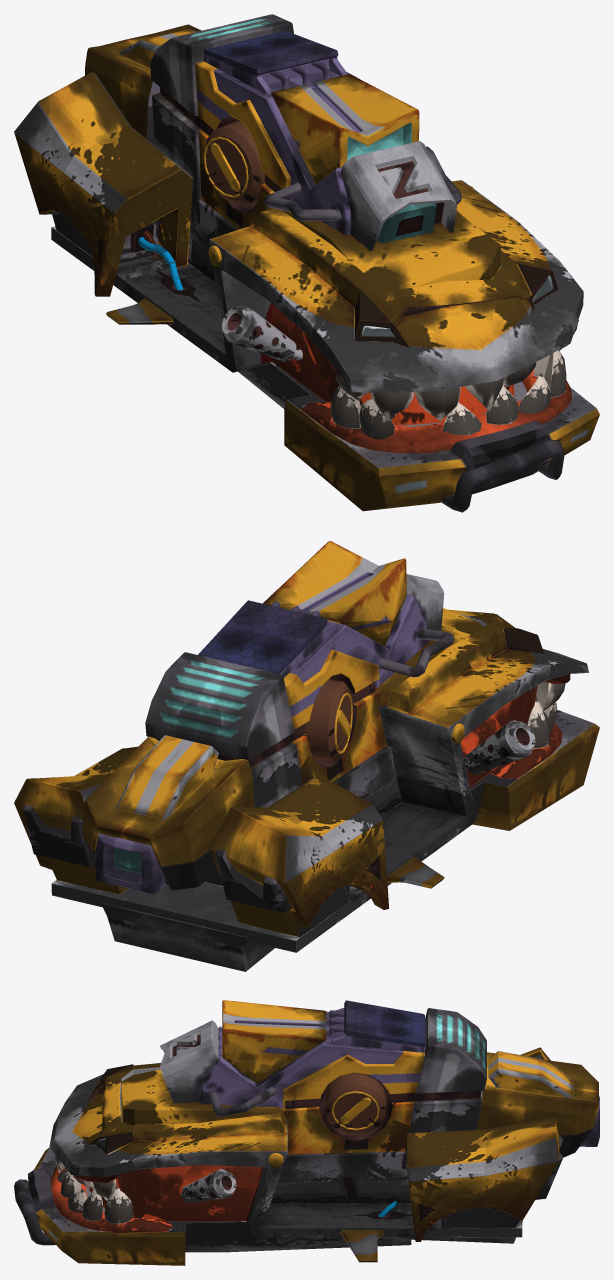
Rendered from Chariot03_cheshen_sunhuai.FBX.
3 views of the same model, one above another, from view 1: azimuth 30°, elevation 25°; view 2: azimuth 150°, elevation 25°; view 3: azimuth 270°, elevation 25° (orthographic). The views are drawn at different scales.
Parts seen in each view (by area): view 1: Chariot03_cheshen_sunhuai; view 2: Chariot03_cheshen_sunhuai; view 3: Chariot03_cheshen_sunhuai.
Boxes of the visible parts, box(x1,y1,x2,y2) form: Chariot03_cheshen_sunhuai: box(14, 14, 599, 512); Chariot03_cheshen_sunhuai: box(14, 541, 599, 971); Chariot03_cheshen_sunhuai: box(14, 1000, 599, 1265).
Size of the model in its own units: 2.31 by 1.92 by 4.68.
